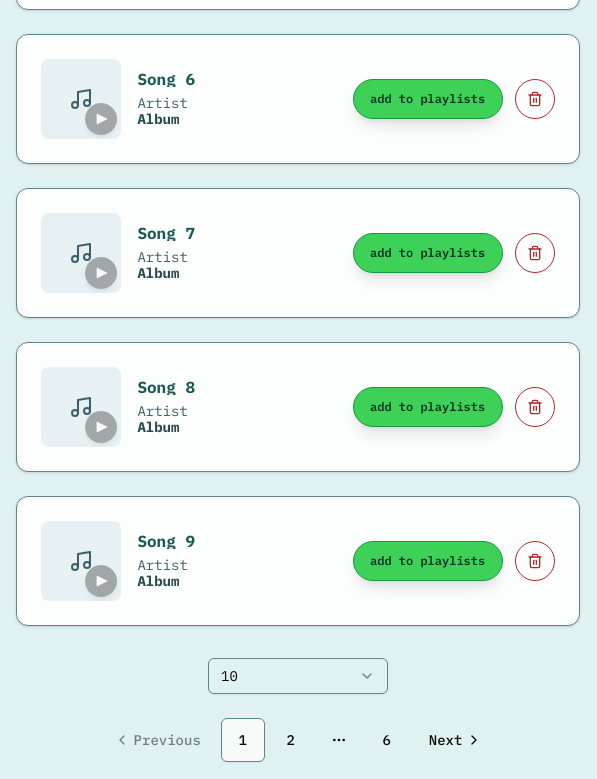
Clean playlist page › renders first/last page links and ellipses like the organize page
(page scrolled)
Note: Jump to the last page via its link.
Click the button "6" at (387,740), box [365, 718, 409, 762]
(page scrolled)
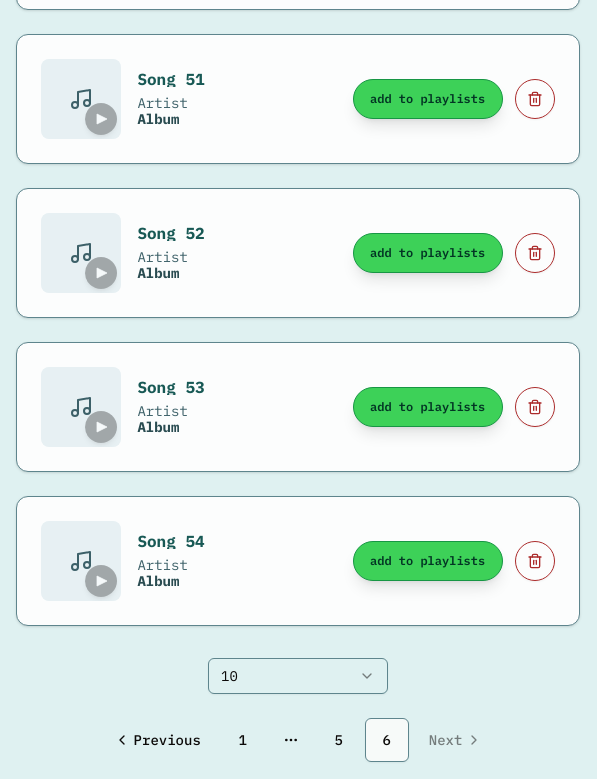
Expected: the button "1" is shown, [221, 718, 265, 762]
Expected: the button "5" is shown, [317, 718, 361, 762]
